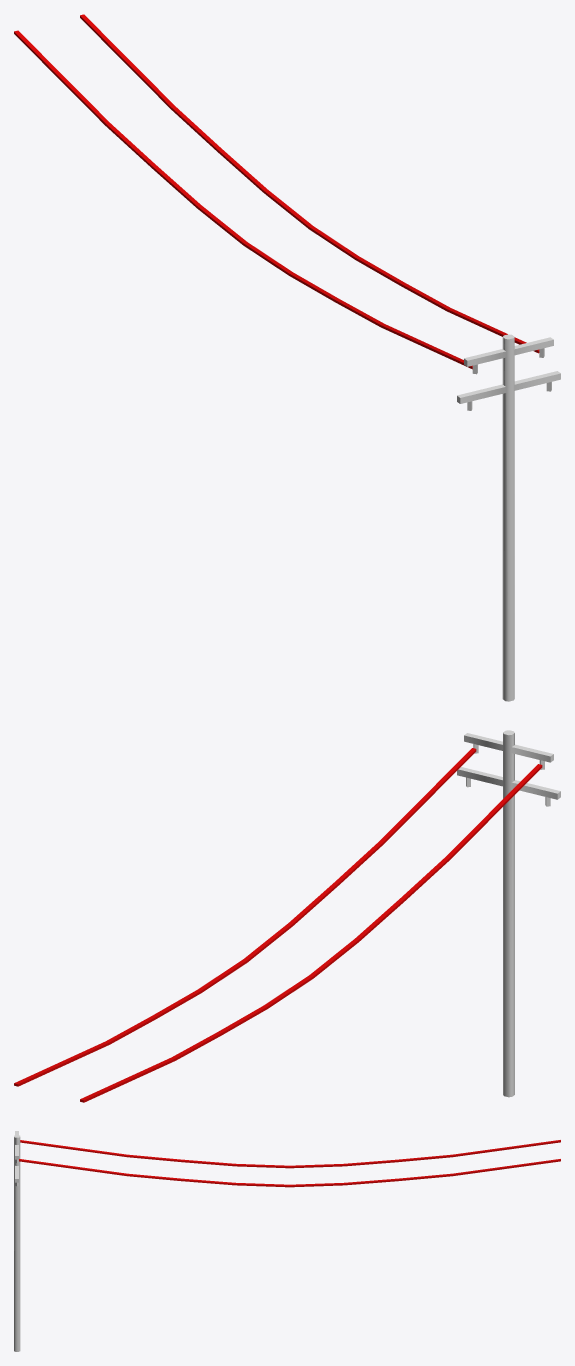
File: Power_Pole.fbx
3 renders of one model, top to bottom at view 1: azimuth 30°, elevation 25°; view 2: azimuth 150°, elevation 25°; view 3: azimuth 270°, elevation 25°, orthographic. The views are drawn at different scales.
Parts seen in each view (by area): view 1: Power_Pole, Cable2, Cable1; view 2: Power_Pole, Cable2, Cable1; view 3: Cable1, Cable2, Power_Pole.
Boxes of the visible parts, <box> form: Power_Pole: <box>457,334,560,701</box>; Cable2: <box>14,30,472,369</box>; Cable1: <box>80,14,539,353</box>; Power_Pole: <box>457,730,560,1097</box>; Cable2: <box>80,764,542,1102</box>; Cable1: <box>14,748,476,1086</box>; Cable1: <box>19,1159,560,1187</box>; Cable2: <box>20,1140,560,1168</box>; Power_Pole: <box>14,1131,20,1351</box>.
Size of the model in its own units: 23.79 by 81.71 by 189.
